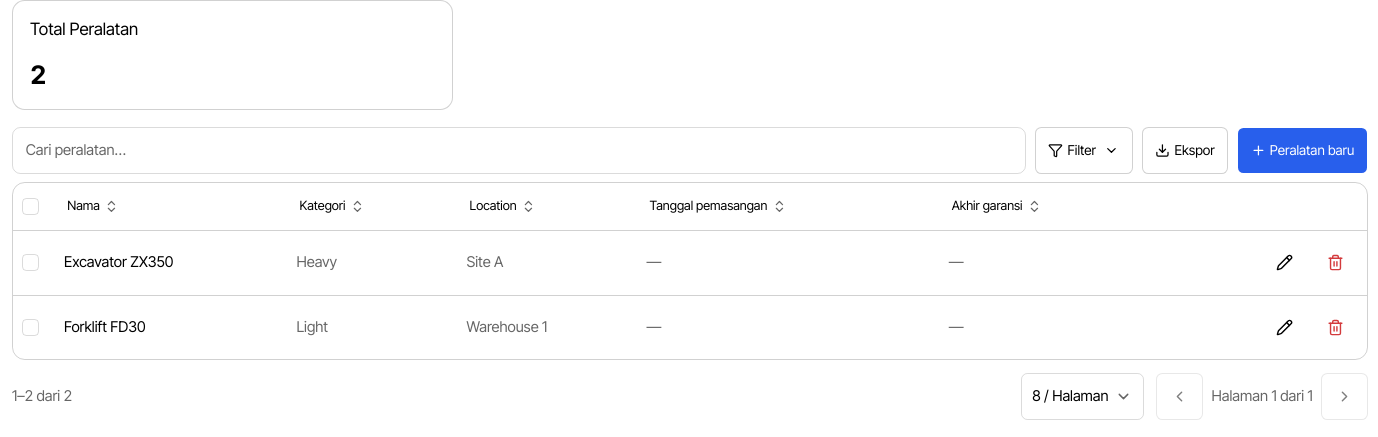
Test case: EquipmentsSection › filters equipments by search
Expected: the text "Excavator ZX350" is shown, [64,253,173,271]
Type "Forklift" into the search field with placeholder "Cari peralatan…". click: (519,150)
box: [12,127,1026,174]
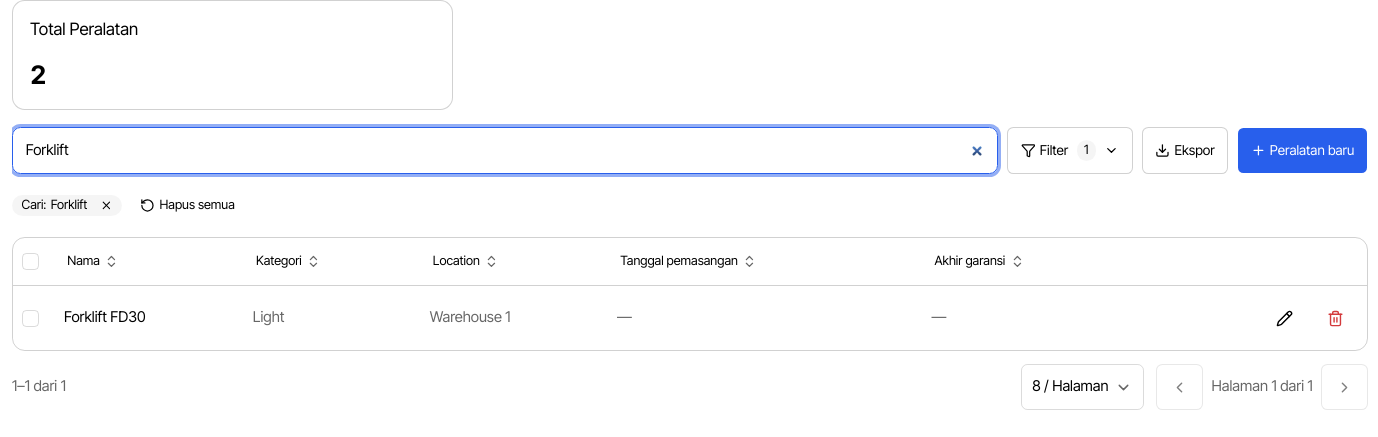
Expected: the text "Forklift FD30" is shown, [64,308,146,326]
Expected: the text "Excavator ZX350" is gone
